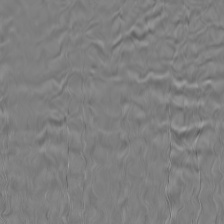cavities: (53, 5, 224, 181)
